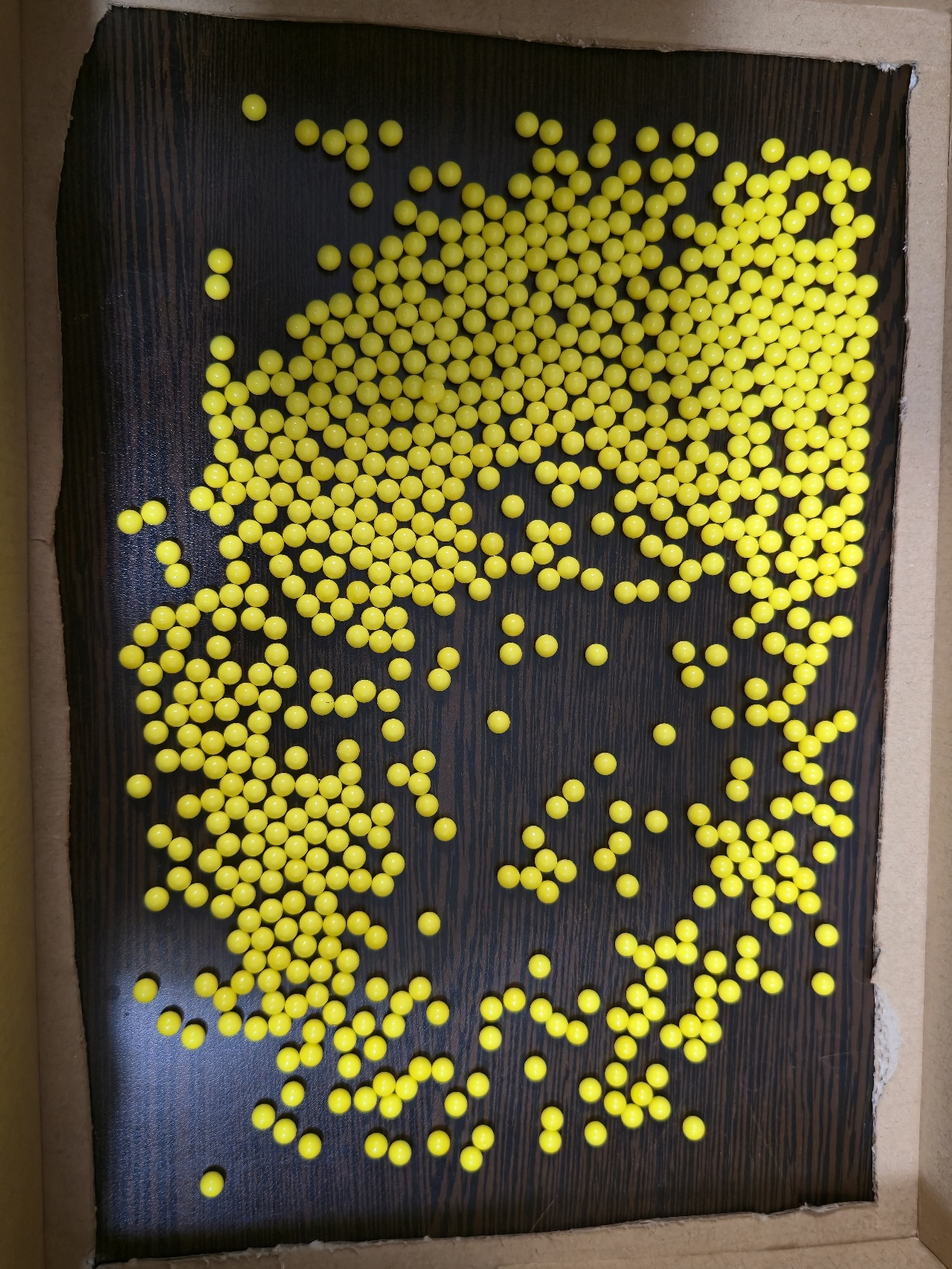yellow_bead: (195, 492, 209, 506), (161, 546, 175, 559), (215, 507, 228, 521), (219, 444, 233, 457), (147, 507, 160, 520), (250, 433, 263, 446), (766, 976, 778, 989), (774, 917, 787, 929), (123, 515, 135, 528), (235, 463, 248, 475), (237, 411, 250, 423), (251, 377, 264, 389), (530, 1062, 541, 1076), (821, 929, 833, 941), (289, 711, 301, 723), (781, 556, 793, 568), (225, 541, 237, 553), (805, 501, 817, 513), (473, 1078, 484, 1091), (485, 1032, 496, 1045), (536, 1004, 547, 1017), (534, 960, 545, 973), (854, 173, 865, 186), (187, 1031, 199, 1042), (710, 956, 721, 968), (699, 890, 710, 902), (807, 768, 818, 780), (736, 576, 747, 588), (753, 560, 765, 571), (796, 541, 808, 552), (750, 520, 762, 531), (829, 511, 840, 523), (846, 499, 858, 510), (252, 482, 264, 493), (541, 467, 553, 478), (777, 413, 789, 424), (852, 342, 864, 353), (161, 754, 174, 764), (244, 525, 257, 535), (213, 280, 223, 293), (725, 986, 736, 997), (743, 941, 754, 952), (778, 836, 789, 847), (153, 829, 164, 840), (615, 806, 626, 817), (777, 803, 788, 814), (398, 634, 409, 645), (815, 627, 826, 638), (795, 585, 806, 596), (620, 495, 631, 506), (765, 473, 776, 484), (266, 415, 277, 426), (812, 394, 823, 405), (551, 393, 562, 404), (766, 390, 777, 401), (759, 368, 770, 379), (748, 342, 759, 353), (764, 326, 775, 337), (741, 965, 753, 975), (623, 880, 633, 892), (782, 861, 794, 871), (551, 802, 563, 812), (393, 768, 405, 778), (418, 755, 430, 765), (776, 593, 786, 605), (675, 585, 685, 597), (761, 500, 773, 510), (557, 489, 569, 499), (735, 463, 745, 475), (791, 457, 803, 467), (757, 450, 767, 462), (793, 161, 803, 173), (150, 893, 163, 902), (174, 843, 187, 852), (309, 826, 322, 835), (554, 1018, 562, 1032), (424, 917, 435, 927), (725, 826, 735, 837), (732, 786, 743, 796), (568, 785, 579, 795), (600, 758, 611, 768), (791, 725, 801, 736), (493, 716, 504, 726), (813, 649, 823, 660), (352, 630, 363, 640), (837, 621, 847, 632), (794, 613, 805, 623), (643, 585, 654, 595), (475, 583, 486, 593), (588, 574, 598, 585), (686, 565, 696, 576), (708, 558, 718, 569), (533, 525, 544, 535), (730, 524, 740, 535), (725, 485, 735, 496), (786, 481, 796, 492), (853, 478, 864, 488), (832, 473, 843, 483), (260, 460, 271, 470), (713, 457, 723, 468), (694, 446, 704, 457), (853, 434, 864, 444), (559, 415, 570, 425), (749, 400, 759, 411), (833, 399, 843, 410), (617, 394, 627, 405), (790, 393, 800, 404), (781, 371, 791, 382), (730, 354, 741, 364), (785, 331, 795, 342), (737, 296, 747, 307), (790, 288, 800, 299), (858, 220, 869, 230), (719, 187, 730, 197), (662, 942, 671, 954), (757, 904, 769, 913), (190, 889, 202, 898), (726, 882, 738, 891), (268, 852, 280, 861), (271, 827, 283, 836), (820, 809, 829, 821), (332, 809, 344, 818), (249, 785, 261, 794), (344, 768, 356, 777), (290, 751, 302, 760), (434, 674, 446, 683), (376, 542, 388, 551), (399, 533, 411, 542), (597, 518, 609, 527), (293, 505, 305, 514), (317, 501, 329, 510), (337, 489, 349, 498), (483, 472, 495, 481), (728, 393, 737, 405), (837, 208, 849, 217), (834, 164, 846, 173), (586, 995, 594, 1008), (132, 780, 145, 788), (258, 762, 271, 770), (142, 695, 155, 703), (212, 641, 225, 649), (225, 589, 238, 597), (275, 488, 288, 496), (529, 831, 539, 841), (754, 825, 764, 835), (291, 813, 301, 823), (506, 648, 516, 658), (740, 623, 750, 633), (440, 599, 450, 609), (812, 524, 822, 534), (642, 487, 652, 497), (228, 486, 238, 496), (663, 480, 673, 490), (808, 479, 818, 489), (569, 437, 579, 447), (490, 430, 500, 440), (291, 422, 301, 432), (630, 414, 640, 424), (717, 373, 727, 383), (587, 1084, 596, 1095), (245, 864, 256, 873), (541, 855, 552, 864), (349, 851, 360, 860), (651, 816, 662, 825), (659, 729, 670, 738), (341, 700, 352, 709), (383, 695, 394, 704), (591, 649, 602, 658), (678, 646, 689, 655), (541, 640, 552, 649), (771, 637, 780, 648), (620, 587, 631, 596), (759, 582, 768, 593), (563, 562, 574, 571), (849, 550, 858, 561), (667, 550, 678, 559), (646, 541, 657, 550), (422, 541, 433, 550), (767, 536, 776, 547), (440, 524, 451, 533), (361, 504, 372, 513), (383, 484, 394, 493), (304, 481, 315, 490), (624, 466, 633, 477), (832, 443, 841, 454), (351, 443, 362, 452), (736, 441, 745, 452), (593, 432, 602, 443), (814, 431, 823, 442), (756, 427, 765, 438), (518, 423, 527, 434), (442, 420, 451, 431), (715, 413, 724, 424), (532, 407, 543, 416), (580, 403, 589, 414), (803, 374, 812, 385), (794, 353, 803, 364), (829, 338, 838, 349), (808, 335, 817, 346), (843, 321, 852, 332), (744, 319, 753, 330), (800, 313, 809, 324), (832, 298, 841, 309), (863, 280, 872, 291), (213, 255, 222, 266), (691, 1122, 699, 1134), (669, 1031, 677, 1043), (635, 989, 643, 1001), (821, 978, 829, 990), (312, 853, 324, 861), (354, 818, 366, 826), (311, 801, 323, 809), (269, 801, 281, 809), (277, 778, 289, 786), (342, 745, 354, 753), (230, 728, 242, 736), (149, 726, 161, 734), (387, 725, 399, 733), (264, 695, 276, 703), (358, 685, 370, 693), (279, 670, 291, 678), (254, 668, 266, 676), (181, 609, 193, 617), (303, 600, 315, 608), (251, 589, 263, 597), (287, 581, 299, 589), (306, 554, 318, 562), (335, 536, 347, 544), (312, 525, 324, 533), (338, 513, 350, 521), (247, 613, 260, 620), (267, 904, 277, 913), (379, 879, 388, 889), (527, 872, 537, 881), (561, 865, 571, 874), (747, 864, 756, 874), (204, 854, 214, 863), (761, 847, 770, 857), (337, 603, 347, 612), (376, 591, 386, 600), (843, 572, 852, 582), (172, 569, 182, 578), (804, 564, 813, 574), (538, 547, 548, 556), (695, 510, 704, 520), (658, 504, 668, 513), (586, 472, 596, 481), (565, 467, 574, 477), (370, 457, 379, 467), (438, 448, 448, 457), (632, 445, 642, 454), (302, 443, 312, 452), (373, 433, 383, 442), (615, 431, 625, 440), (836, 422, 846, 431), (855, 410, 864, 420), (596, 386, 605, 396), (740, 375, 749, 385), (550, 369, 559, 379), (589, 362, 598, 372), (817, 357, 826, 367), (563, 330, 573, 339), (759, 302, 768, 312), (854, 301, 863, 311), (811, 293, 820, 303), (801, 269, 810, 279), (801, 245, 811, 254), (823, 244, 832, 254), (636, 1020, 644, 1031), (654, 973, 662, 984), (216, 901, 227, 909), (321, 898, 332, 906), (266, 876, 277, 884), (173, 873, 184, 881), (822, 847, 830, 858), (290, 841, 301, 849), (223, 838, 234, 846), (440, 823, 451, 831), (251, 815, 262, 823), (377, 809, 388, 817), (802, 798, 810, 809), (840, 785, 848, 796), (301, 780, 312, 788), (233, 756, 244, 764), (252, 740, 263, 748), (824, 726, 832, 737), (170, 709, 181, 717), (224, 666, 235, 674), (318, 618, 329, 626), (219, 613, 230, 621), (391, 612, 402, 620), (544, 574, 555, 582), (460, 566, 471, 574), (517, 557, 528, 565), (395, 556, 406, 564), (356, 552, 367, 560), (289, 529, 300, 537), (428, 471, 439, 479), (342, 464, 353, 472), (285, 464, 296, 472), (414, 452, 425, 460), (525, 446, 536, 454), (422, 428, 430, 439), (707, 391, 715, 402), (421, 327, 429, 338), (716, 286, 724, 297), (749, 275, 757, 286), (843, 255, 851, 266), (832, 187, 840, 198), (768, 144, 779, 152), (704, 980, 711, 992), (315, 675, 327, 682), (271, 649, 283, 656), (259, 506, 271, 513), (507, 501, 519, 508), (331, 1008, 340, 1017), (488, 1006, 497, 1015), (416, 983, 425, 992), (345, 954, 354, 963), (222, 871, 231, 880), (753, 684, 762, 693), (802, 669, 811, 678), (713, 649, 722, 658), (685, 489, 694, 498), (457, 460, 466, 469), (850, 456, 859, 465), (277, 441, 286, 450), (802, 414, 811, 423), (840, 359, 849, 368), (411, 356, 420, 365), (704, 326, 713, 335), (766, 222, 775, 231), (693, 1047, 701, 1057), (225, 1021, 233, 1031), (762, 881, 770, 891), (332, 872, 342, 880), (736, 846, 744, 856), (615, 838, 625, 846), (332, 835, 342, 843), (212, 817, 222, 825), (718, 712, 728, 720), (776, 706, 784, 716), (376, 635, 386, 643), (443, 551, 453, 559), (393, 461, 403, 469), (737, 418, 745, 428), (295, 398, 303, 408), (369, 339, 377, 349), (727, 266, 735, 276), (200, 597, 213, 603), (685, 925, 692, 936), (231, 803, 242, 810), (422, 800, 433, 807), (347, 791, 358, 798), (414, 779, 425, 786), (186, 754, 197, 761), (179, 687, 190, 694), (139, 629, 150, 636), (367, 613, 378, 620), (761, 607, 768, 618), (429, 495, 440, 502), (448, 483, 459, 490), (437, 345, 444, 356), (588, 335, 595, 346), (399, 335, 406, 346), (722, 309, 729, 320), (594, 1131, 602, 1140), (279, 1129, 288, 1137), (657, 1070, 663, 1082), (708, 1029, 716, 1038), (683, 950, 692, 958), (233, 936, 242, 944), (306, 917, 315, 925), (803, 873, 811, 882), (390, 858, 399, 866), (705, 832, 713, 841), (824, 582, 832, 591), (826, 559, 834, 568), (745, 541, 753, 550), (381, 518, 390, 526), (408, 481, 417, 489), (683, 466, 691, 475), (646, 464, 655, 472), (504, 449, 513, 457), (793, 435, 802, 443), (333, 431, 341, 440), (829, 379, 837, 388), (219, 342, 228, 350), (609, 341, 617, 350), (444, 324, 452, 333), (353, 321, 361, 330), (780, 309, 788, 318), (782, 263, 790, 272), (772, 200, 781, 208), (658, 1105, 665, 1115), (652, 1003, 659, 1013), (239, 889, 249, 896), (325, 781, 335, 788), (184, 729, 194, 736), (222, 703, 232, 710), (145, 668, 155, 675), (375, 567, 385, 574), (457, 437, 467, 444), (697, 424, 704, 434), (575, 377, 582, 387), (531, 359, 538, 369), (711, 349, 718, 359), (774, 348, 781, 358), (522, 312, 529, 322), (453, 301, 460, 311), (247, 840, 258, 846), (173, 632, 184, 638), (757, 179, 763, 190), (736, 167, 742, 178), (707, 138, 713, 149), (245, 915, 253, 923), (311, 878, 319, 886), (208, 794, 216, 802), (739, 763, 747, 771), (195, 664, 203, 672), (675, 522, 683, 530), (653, 433, 661, 441), (602, 411, 610, 419), (655, 410, 663, 418), (339, 402, 347, 410), (298, 364, 306, 372), (631, 327, 639, 335), (621, 307, 629, 315), (843, 232, 851, 240), (441, 1064, 448, 1073), (390, 1023, 399, 1030), (360, 1021, 367, 1030), (375, 983, 382, 992), (376, 832, 385, 839), (793, 756, 800, 765), (208, 684, 217, 691), (445, 653, 454, 660), (794, 649, 801, 658), (420, 589, 429, 596), (832, 537, 839, 546), (399, 504, 408, 511), (488, 406, 495, 415), (511, 396, 518, 405), (512, 373, 519, 382), (614, 370, 621, 379), (460, 344, 467, 353), (331, 327, 338, 336), (584, 280, 591, 289), (621, 939, 631, 945), (469, 388, 475, 398), (474, 316, 480, 326), (551, 1114, 558, 1122), (252, 1027, 259, 1035), (271, 998, 278, 1006), (282, 924, 290, 931), (604, 854, 611, 862), (417, 565, 425, 572), (268, 537, 276, 544), (609, 452, 616, 460), (854, 388, 861, 396), (658, 388, 665, 396), (456, 368, 463, 376), (676, 359, 683, 367), (497, 302, 504, 310), (538, 299, 546, 306), (402, 1086, 411, 1092), (399, 998, 405, 1007), (300, 942, 309, 948), (509, 620, 518, 626), (492, 562, 501, 568), (457, 507, 466, 513), (707, 478, 713, 487), (466, 411, 472, 420), (698, 367, 704, 376), (364, 364, 370, 373), (654, 356, 660, 365), (570, 355, 576, 364), (579, 309, 585, 318), (407, 309, 413, 318), (696, 280, 702, 289), (482, 1137, 489, 1144), (259, 933, 266, 940), (809, 901, 816, 908), (169, 655, 176, 662), (463, 535, 470, 542), (544, 429, 551, 436), (315, 413, 322, 420), (366, 391, 373, 398), (267, 358, 274, 365), (700, 306, 707, 313), (474, 293, 481, 300), (726, 235, 733, 242), (250, 103, 257, 110), (469, 1160, 477, 1166), (251, 957, 259, 963), (842, 823, 848, 831), (846, 717, 852, 725), (756, 710, 762, 718), (127, 651, 135, 657), (324, 585, 332, 591), (440, 574, 448, 580), (362, 531, 370, 537), (632, 521, 640, 527), (861, 370, 869, 376), (315, 309, 323, 315), (657, 296, 663, 304), (605, 292, 611, 300), (772, 284, 778, 292), (610, 269, 616, 277), (515, 266, 521, 274), (613, 246, 619, 254), (289, 1092, 295, 1099), (315, 991, 321, 998), (643, 956, 650, 962), (211, 762, 218, 768), (210, 736, 216, 743), (245, 688, 251, 695), (491, 538, 498, 544), (320, 463, 327, 469), (399, 435, 406, 441), (234, 388, 240, 395), (282, 382, 288, 389), (342, 353, 349, 359), (297, 323, 303, 330), (339, 303, 346, 309), (367, 301, 373, 308), (517, 291, 523, 298), (497, 279, 503, 286), (475, 268, 482, 274), (691, 256, 697, 263), (713, 253, 719, 260), (556, 244, 562, 251), (390, 244, 396, 251), (619, 219, 625, 226), (342, 1038, 347, 1046), (713, 530, 718, 538), (681, 382, 686, 390), (391, 293, 396, 301), (565, 292, 570, 300), (276, 1021, 282, 1027), (204, 979, 208, 988), (265, 976, 271, 982), (296, 966, 302, 972), (787, 890, 793, 896), (547, 887, 553, 893), (698, 809, 704, 815), (420, 518, 426, 524), (492, 385, 498, 391), (600, 318, 606, 324), (434, 268, 440, 274), (386, 268, 392, 274), (632, 1115, 637, 1122), (294, 1001, 299, 1008), (342, 980, 349, 985), (228, 780, 235, 785), (449, 398, 454, 405), (434, 386, 439, 393), (535, 385, 540, 392), (347, 379, 352, 386), (507, 352, 512, 359), (548, 277, 553, 284), (475, 244, 480, 251), (635, 238, 640, 245), (473, 218, 478, 225), (455, 1103, 459, 1111), (714, 507, 722, 511), (678, 425, 682, 433), (546, 322, 550, 330), (683, 319, 687, 327), (822, 318, 830, 322), (415, 287, 419, 295), (632, 260, 636, 268), (685, 130, 689, 138), (811, 742, 816, 748), (693, 672, 698, 678), (358, 586, 364, 591), (551, 347, 556, 353), (455, 279, 460, 285), (411, 265, 416, 271), (496, 256, 502, 261), (452, 251, 457, 257), (537, 207, 542, 213), (676, 190, 681, 196), (544, 184, 549, 190), (520, 182, 526, 187), (599, 152, 605, 157), (549, 1140, 556, 1144), (508, 871, 512, 878), (642, 376, 646, 383), (672, 273, 676, 280), (591, 259, 595, 266), (579, 238, 583, 245), (600, 227, 604, 234), (849, 525, 858, 528), (210, 469, 219, 472), (213, 369, 222, 372), (399, 1153, 404, 1158), (142, 987, 147, 992), (295, 867, 300, 872), (186, 801, 191, 806), (795, 690, 800, 695), (654, 320, 659, 325), (517, 245, 522, 250), (415, 241, 420, 246), (451, 227, 456, 232), (428, 220, 433, 225), (657, 205, 662, 210), (260, 1116, 266, 1120), (707, 1008, 713, 1012), (317, 698, 321, 704), (750, 483, 756, 487), (480, 452, 486, 456), (358, 420, 362, 426), (482, 364, 486, 370), (692, 341, 696, 347), (670, 338, 674, 344), (569, 267, 573, 273), (557, 220, 561, 226), (568, 158, 572, 164), (791, 519, 798, 522), (671, 452, 674, 459), (348, 1065, 352, 1070), (292, 897, 296, 902), (358, 876, 362, 881), (283, 563, 287, 568), (379, 413, 384, 417), (404, 406, 408, 411), (506, 329, 510, 334), (765, 254, 770, 258), (537, 232, 541, 237), (581, 214, 585, 219), (755, 208, 759, 213), (614, 187, 619, 191), (648, 137, 653, 141), (750, 229, 753, 235), (686, 222, 689, 228), (262, 720, 266, 724), (401, 668, 405, 672), (437, 370, 441, 374), (486, 341, 490, 345), (527, 341, 531, 345), (685, 163, 689, 167), (528, 122, 532, 126), (617, 1074, 620, 1079), (724, 863, 727, 868), (334, 567, 339, 570), (425, 411, 430, 414), (389, 359, 392, 364), (582, 179, 585, 184), (364, 1098, 367, 1102), (613, 1068, 616, 1072), (334, 921, 337, 925), (357, 531, 361, 534), (692, 405, 695, 409), (634, 353, 638, 356), (385, 320, 388, 324), (431, 309, 435, 312), (329, 256, 333, 259), (708, 230, 711, 234), (602, 205, 605, 209), (449, 173, 453, 176), (358, 155, 361, 159), (217, 421, 222, 423), (437, 1014, 440, 1017), (681, 299, 684, 302), (407, 211, 410, 214), (807, 203, 810, 206), (335, 141, 338, 144), (641, 285, 643, 289), (313, 1031, 315, 1034), (232, 571, 234, 574), (225, 425, 227, 428), (208, 398, 211, 400), (222, 373, 224, 376), (654, 254, 656, 257), (745, 252, 748, 254), (495, 234, 498, 236), (392, 132, 394, 135), (253, 721, 255, 723), (363, 193, 364, 197), (665, 167, 666, 171), (367, 486, 370, 487), (554, 129, 555, 132), (210, 1181, 211, 1183), (693, 1028, 695, 1029), (165, 618, 167, 619), (563, 534, 565, 535), (392, 386, 393, 388), (326, 369, 328, 370), (784, 239, 786, 240), (517, 222, 518, 224), (287, 1057, 288, 1058), (311, 1054, 312, 1055), (243, 982, 244, 983), (321, 972, 322, 973), (331, 947, 332, 948), (631, 944, 632, 945), (280, 626, 281, 627), (403, 587, 404, 588), (407, 584, 408, 585), (339, 565, 340, 566), (858, 529, 859, 530), (848, 529, 849, 530), (723, 507, 724, 508), (814, 458, 815, 459), (816, 457, 817, 458), (321, 394, 322, 395), (211, 375, 212, 376), (218, 293, 219, 294), (539, 257, 540, 258), (735, 215, 736, 216), (820, 155, 821, 156), (357, 132, 358, 133), (616, 1073, 617, 1073), (292, 1060, 292, 1061), (224, 997, 225, 997), (515, 996, 515, 997), (405, 586, 405, 587), (399, 586, 399, 587), (329, 565, 329, 566), (799, 521, 800, 521), (370, 484, 370, 485), (817, 457, 820, 457), (208, 401, 208, 402), (212, 373, 213, 373), (867, 321, 869, 321), (787, 240, 788, 240), (793, 216, 796, 216), (810, 202, 811, 202), (635, 202, 636, 202), (637, 201, 637, 202), (779, 176, 780, 176)
